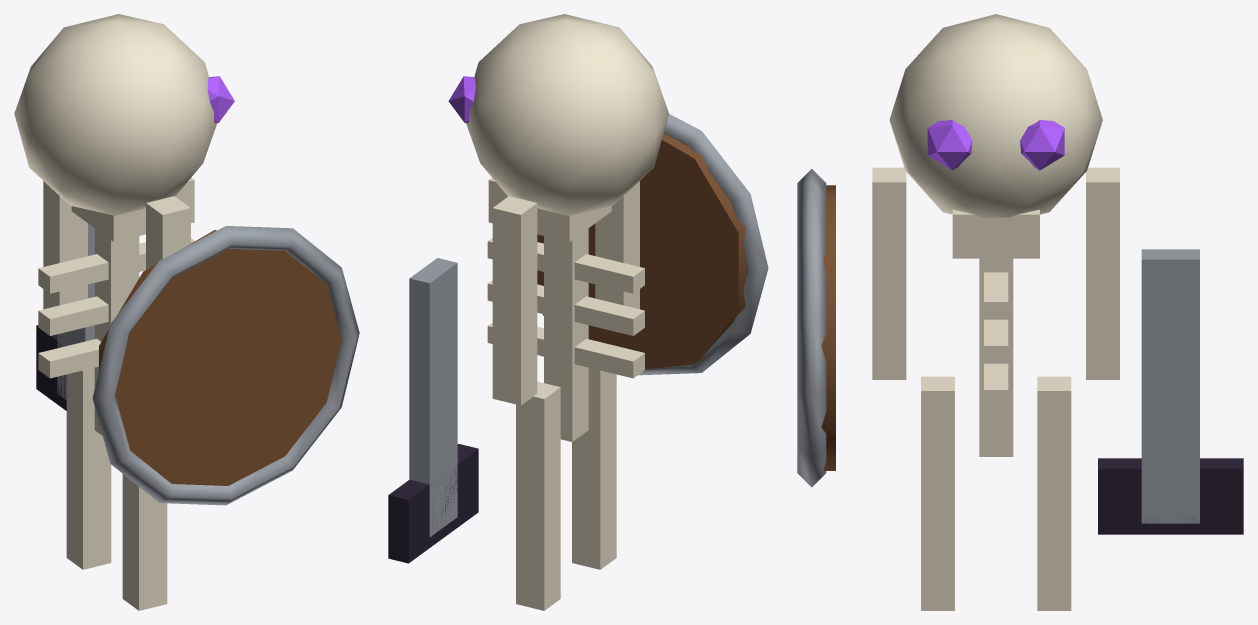
File: level1.glb
The picture shows the model from 3 angles, left to right: view 1: azimuth 30°, elevation 25°; view 2: azimuth 150°, elevation 25°; view 3: azimuth 270°, elevation 25°; orthographic projection. The views are drawn at different scales.
Bounding box in the file's own units: 0.66 × 1.32 × 0.92.
